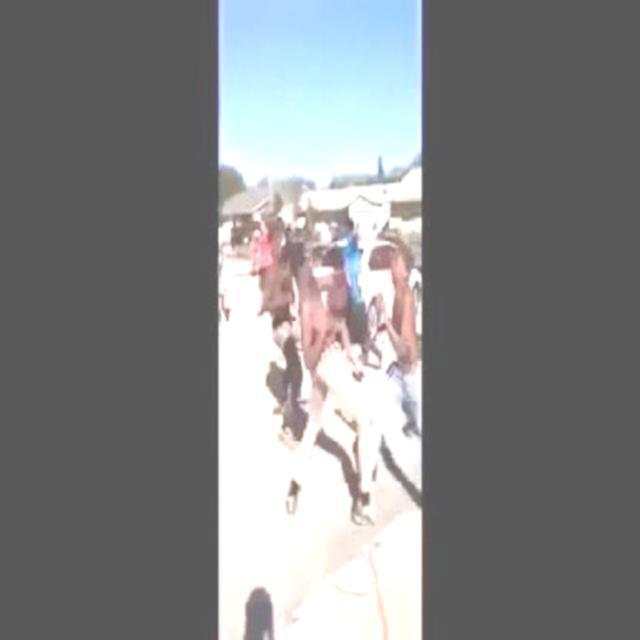fight: (284, 242, 420, 522)
